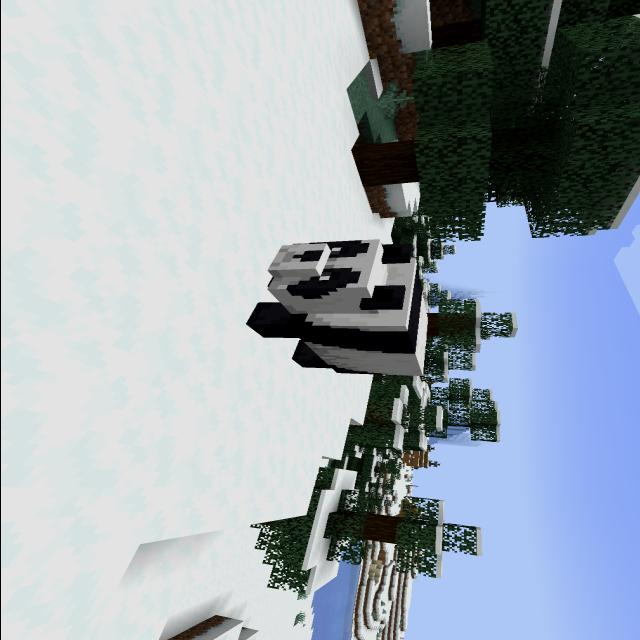Panda: (230, 232, 444, 382)
